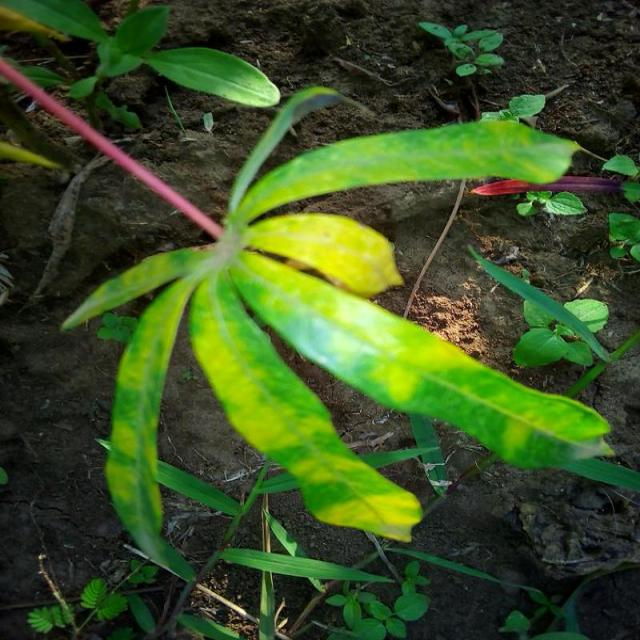cassava leaf: (21, 64, 626, 577)
